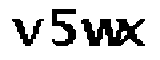5: (47, 5, 77, 50)
v: (9, 14, 43, 51)
w: (77, 16, 122, 49)
x: (118, 17, 146, 48)
